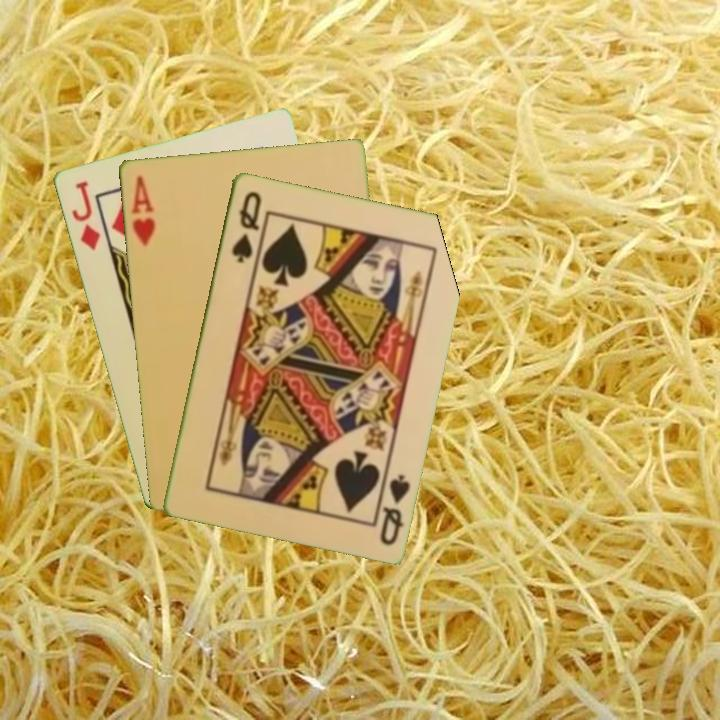Ah: (128, 171, 158, 248)
Jd: (67, 177, 103, 252)
Qs: (376, 470, 413, 548), (228, 187, 264, 266)
